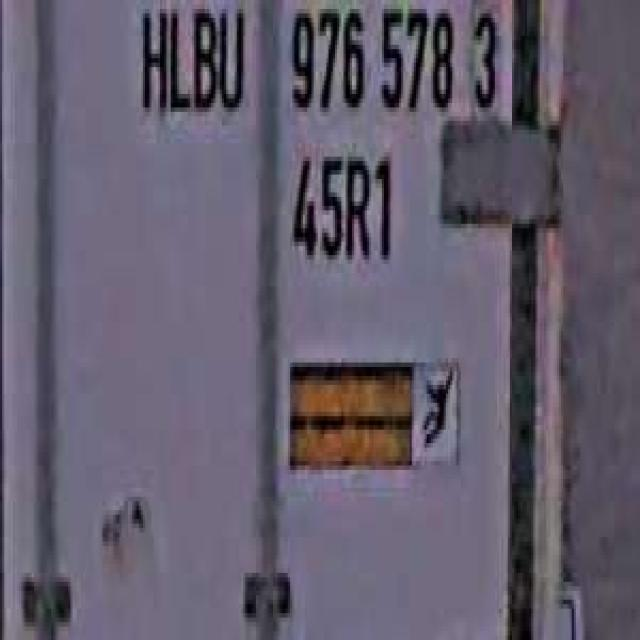dv: (462, 0, 501, 116)
owner: (132, 0, 250, 130)
serial: (284, 0, 456, 130)
size: (284, 139, 399, 277)
